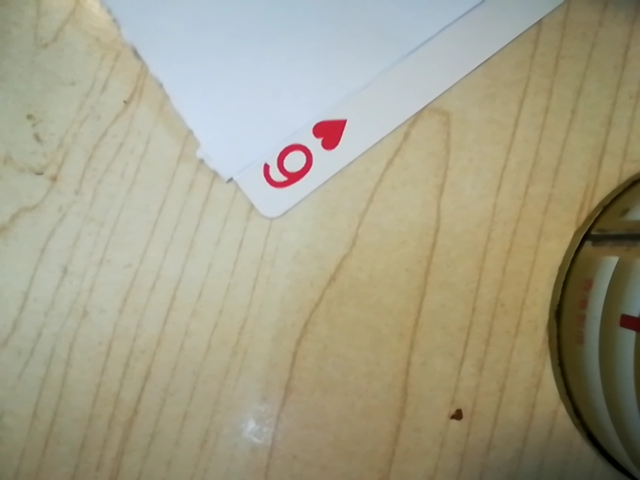hx 6: (251, 115, 352, 197)
